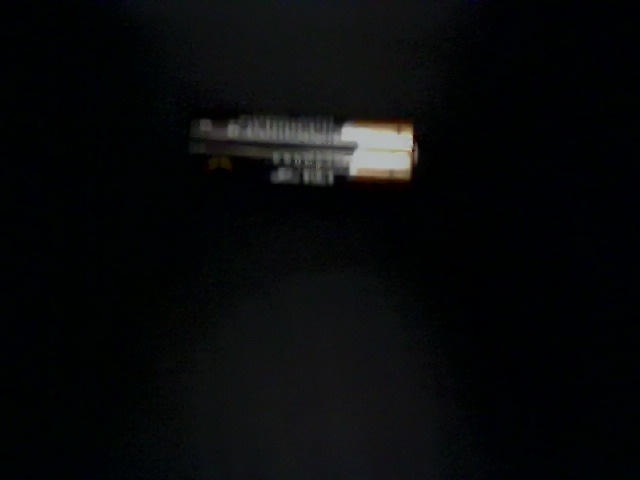QTLJ: (463, 218, 640, 426)
